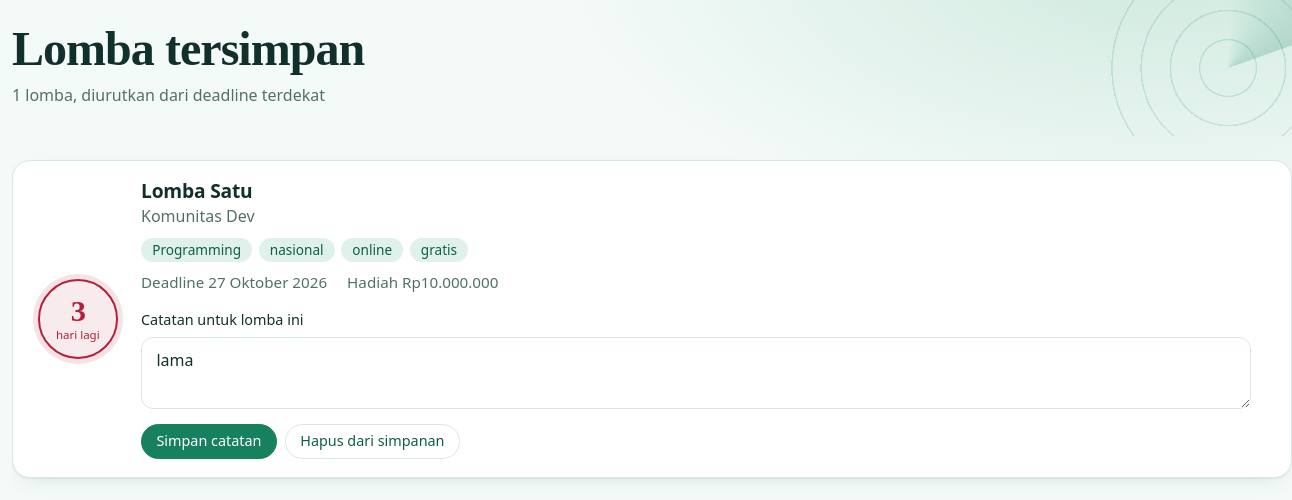
Test: Tersimpan › mengubah dan menyimpan catatan
Replace the text in the text box labelled "Catatan untuk lomba ini" with "catatan baru" at x=696, y=373, box [141,336,1251,409]
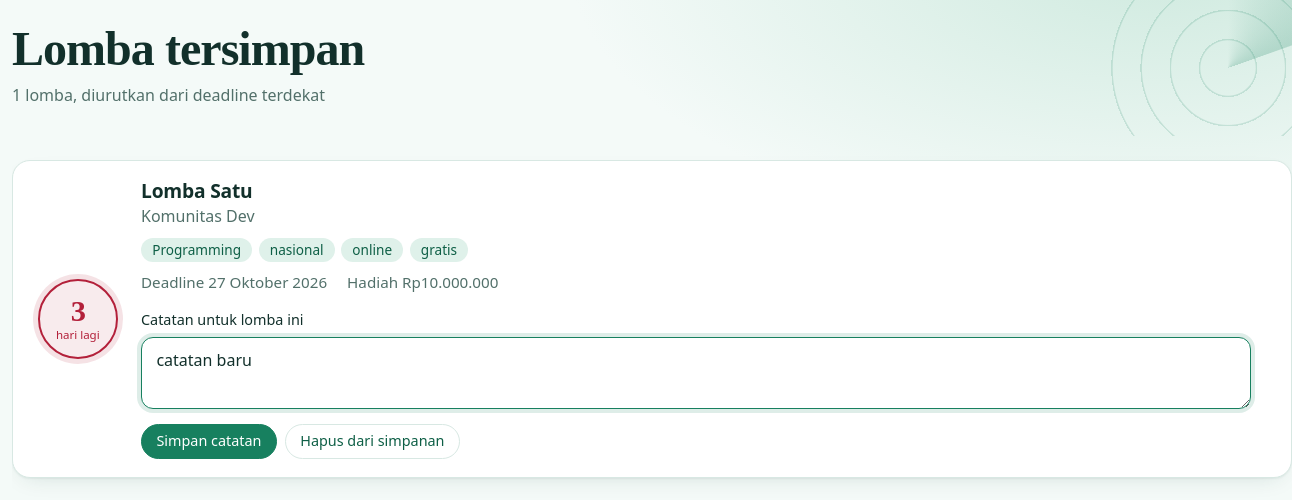
Click the button "Simpan catatan".
click(209, 441)  # box [141,424,277,459]
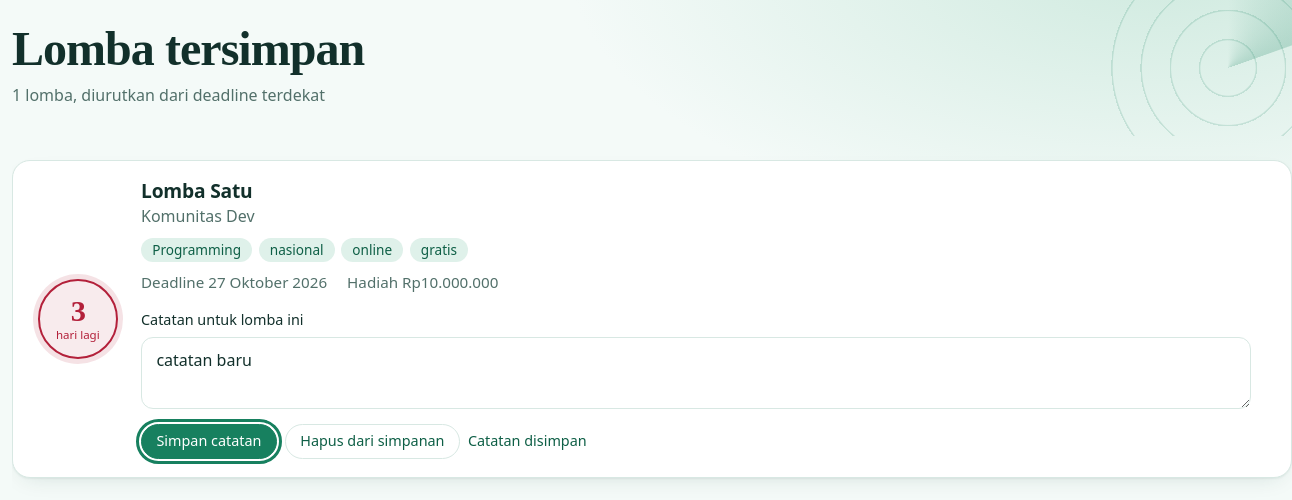
Expected: the text "Catatan disimpan" is shown, [468,430,587,453]
